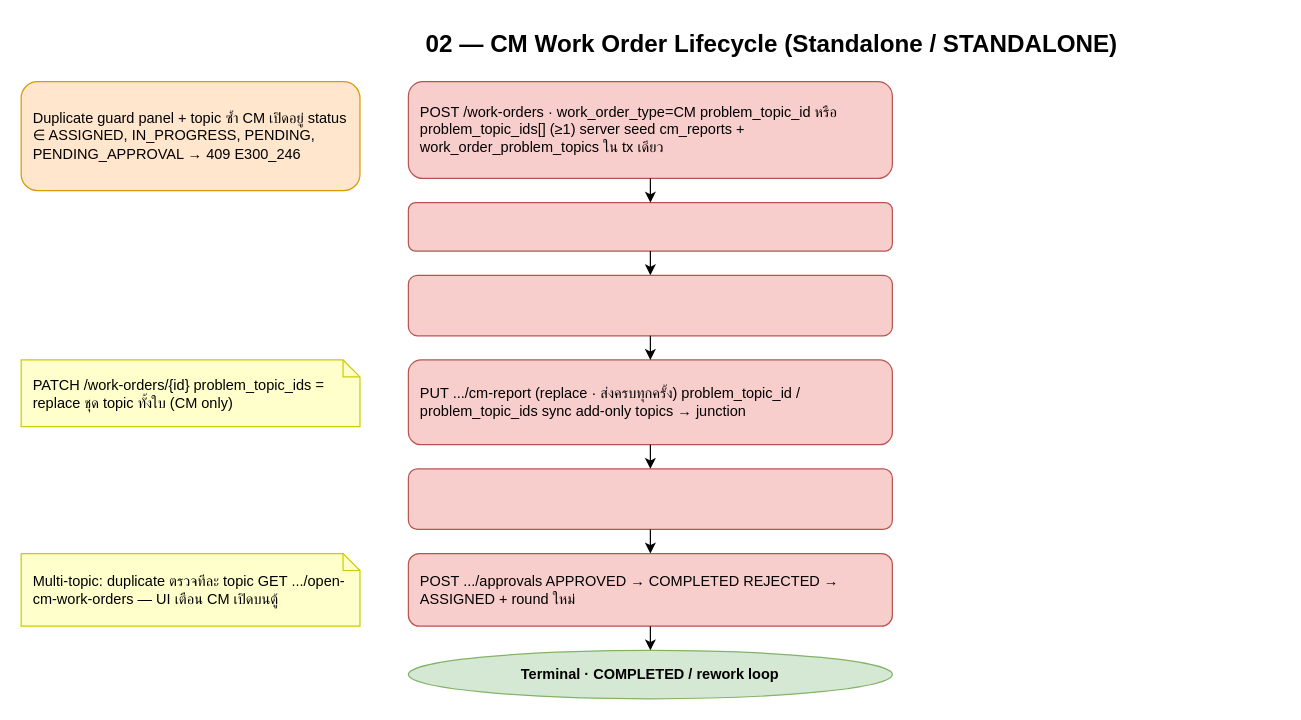
The diagram is 1301 pixels wide and 720 high, and some of its shapes have lost their labels. The shapes that lost their labels are listed below. From the top down, each one's box as (x1, y1, x2, y2) in pixels, then its label:
(407, 201, 892, 251): status = ASSIGNED · work_order_no CM-...
(407, 274, 892, 336): POST .../reassign (ก่อน check-in) POST .../check-in → IN_PROGRESS
(407, 468, 892, 529): POST .../cm-report/submit · actor_id → PENDING_APPROVAL
